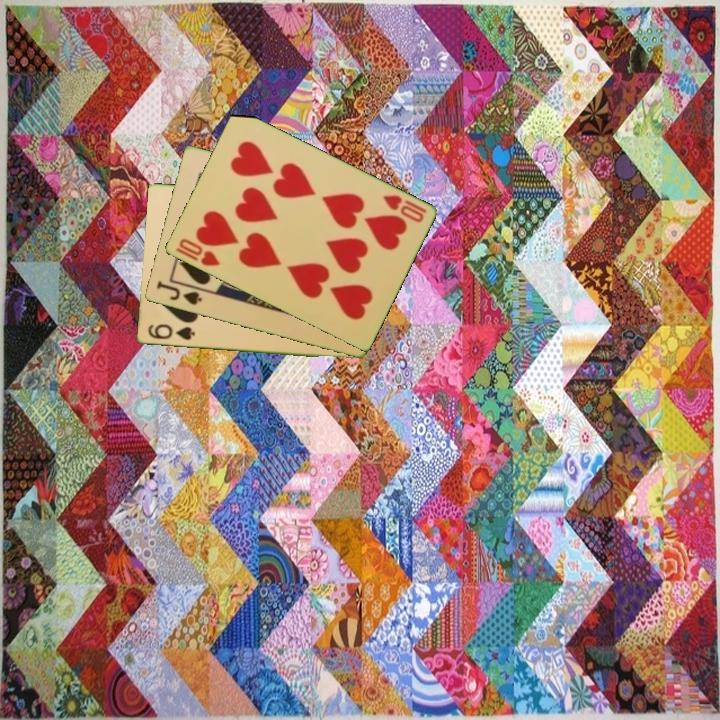10h: (379, 191, 429, 226), (175, 235, 222, 269)
6s: (144, 321, 197, 343)
Js: (153, 278, 205, 308)
